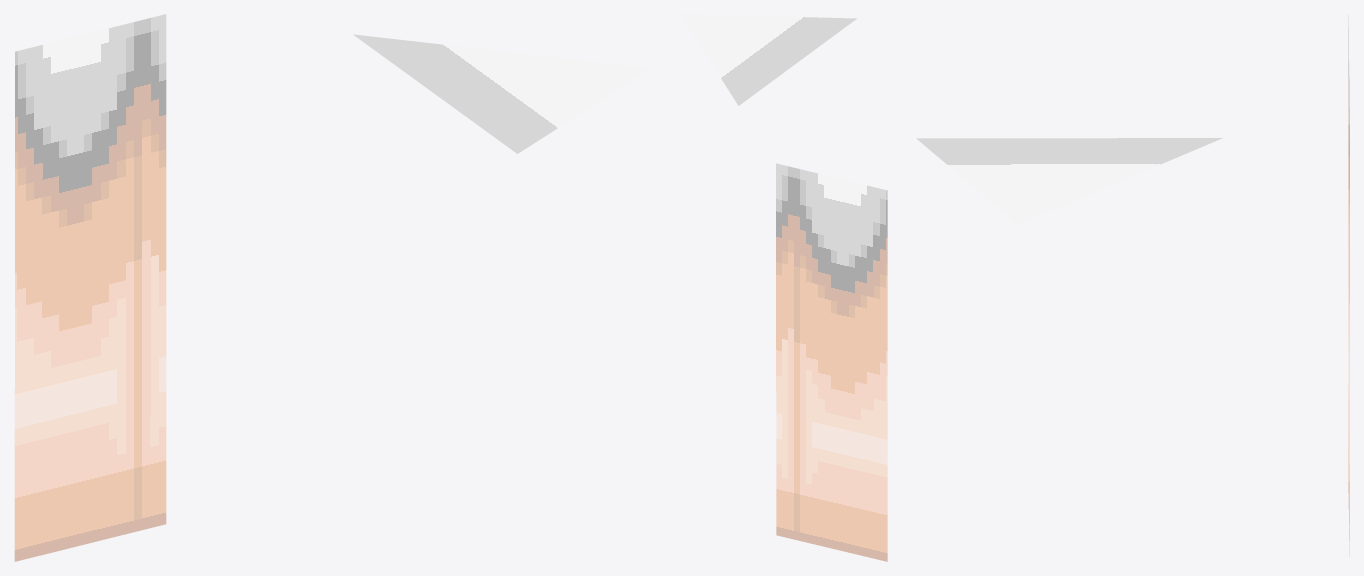
The picture shows the model from 3 angles, left to right: view 1: azimuth 30°, elevation 25°; view 2: azimuth 150°, elevation 25°; view 3: azimuth 270°, elevation 25°; orthographic projection. The views are drawn at different scales.
Size of the model in its own units: 1.5 by 1.59 by 1.31.
Materials: 1 (1 with a texture image).
